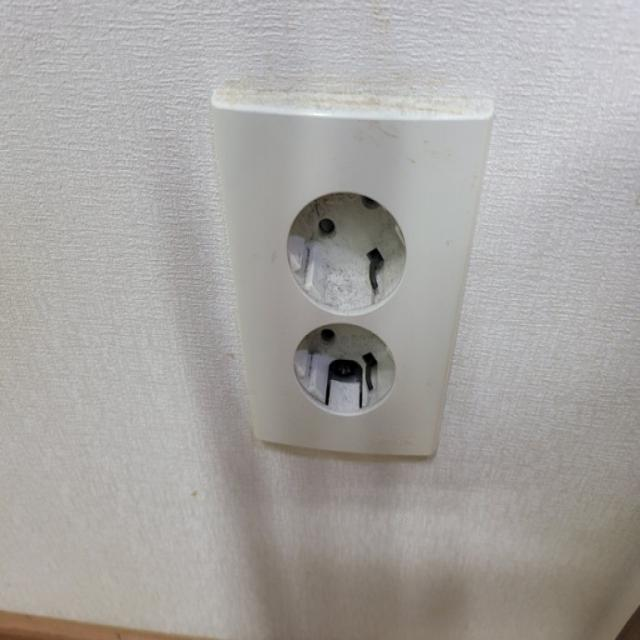typeb: (194, 47, 529, 550)
